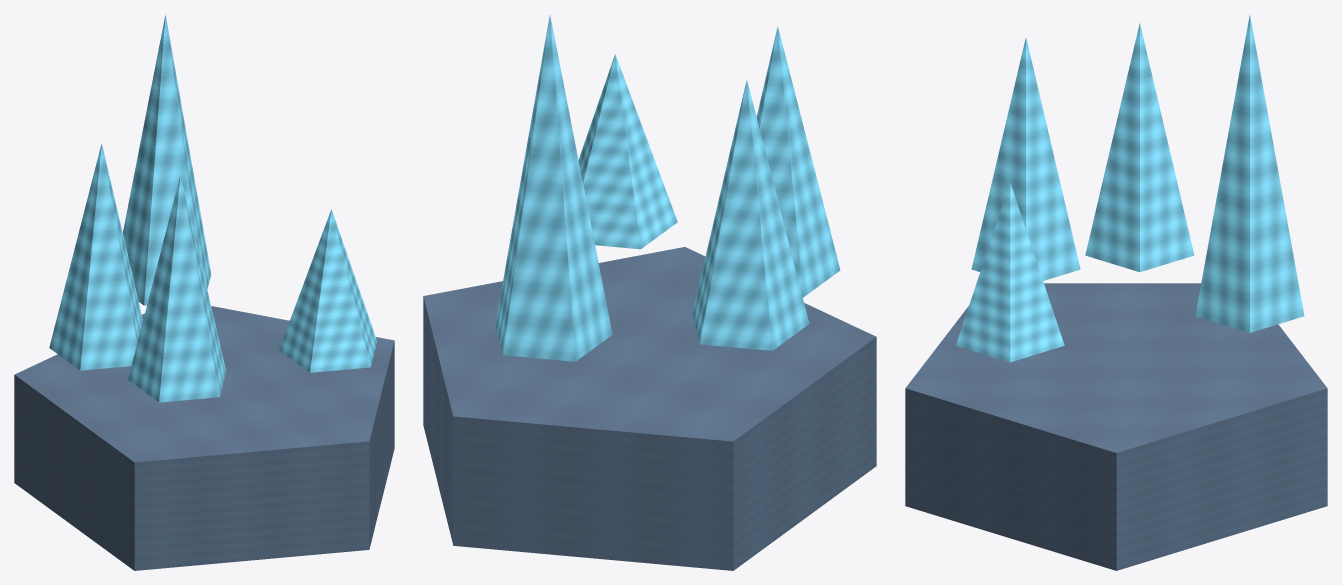
The model's file is atlas100-s051-a12.lod1.glb.
3 renders of one model, left to right at view 1: azimuth 30°, elevation 25°; view 2: azimuth 150°, elevation 25°; view 3: azimuth 270°, elevation 25°, orthographic. The views are drawn at different scales.
Visible parts, largest first — view 1: atlas100-s051-a12:part-000, atlas100-s051-a12:part-002, atlas100-s051-a12:part-005, atlas100-s051-a12:part-003, atlas100-s051-a12:part-004; view 2: atlas100-s051-a12:part-000, atlas100-s051-a12:part-003, atlas100-s051-a12:part-005, atlas100-s051-a12:part-004, atlas100-s051-a12:part-002; view 3: atlas100-s051-a12:part-000, atlas100-s051-a12:part-003, atlas100-s051-a12:part-005, atlas100-s051-a12:part-002, atlas100-s051-a12:part-004.
Part boxes in pixels (<box>): atlas100-s051-a12:part-000: <box>14,306,394,570</box>; atlas100-s051-a12:part-002: <box>128,175,226,402</box>; atlas100-s051-a12:part-005: <box>49,143,142,370</box>; atlas100-s051-a12:part-003: <box>123,14,211,305</box>; atlas100-s051-a12:part-004: <box>279,209,377,372</box>; atlas100-s051-a12:part-000: <box>423,247,876,570</box>; atlas100-s051-a12:part-003: <box>495,15,612,361</box>; atlas100-s051-a12:part-005: <box>692,79,809,350</box>; atlas100-s051-a12:part-004: <box>578,54,677,249</box>; atlas100-s051-a12:part-002: <box>756,26,840,297</box>; atlas100-s051-a12:part-000: <box>905,283,1327,570</box>; atlas100-s051-a12:part-003: <box>1195,14,1304,332</box>; atlas100-s051-a12:part-005: <box>1085,23,1194,272</box>; atlas100-s051-a12:part-002: <box>971,37,1080,280</box>; atlas100-s051-a12:part-004: <box>955,182,1064,362</box>.
Bounding box in the file's own units: 1.05 × 1.35 × 1.1.
Materials: 2 (2 with a texture image).
